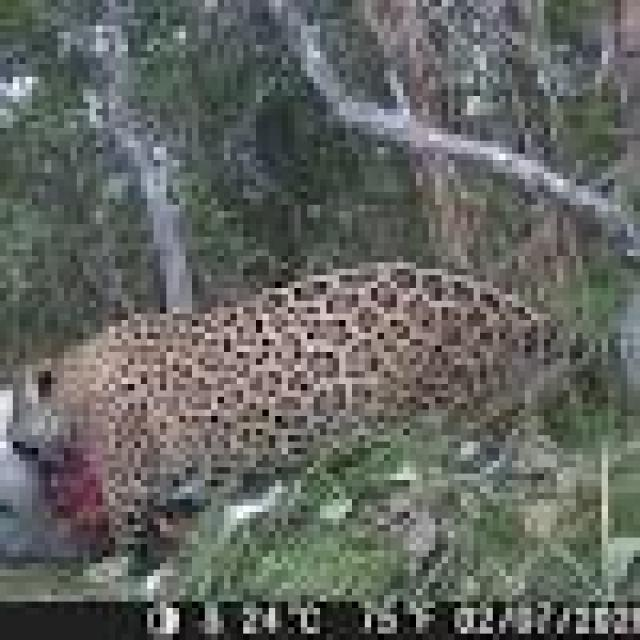Jaguar: (58, 262, 563, 518)
